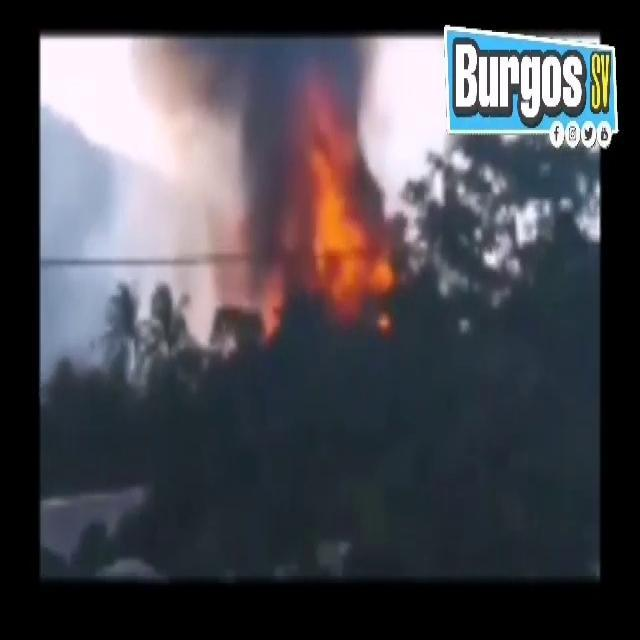Fire: (304, 168, 392, 306)
